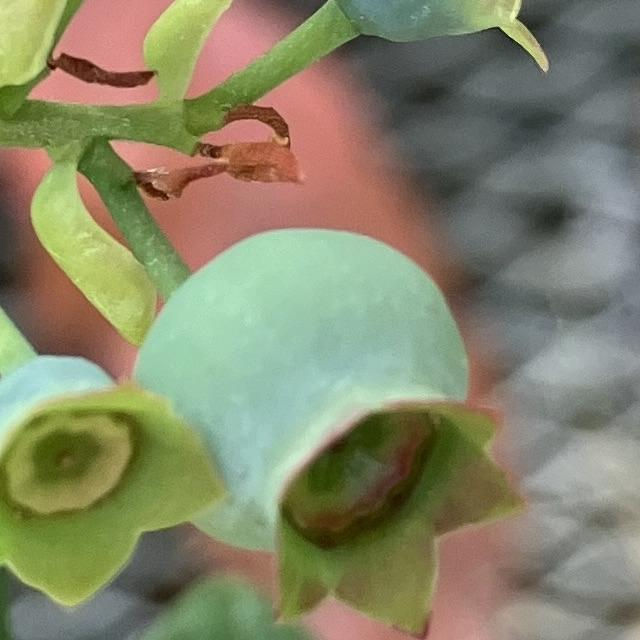Blueberries: (118, 203, 557, 640)
